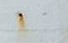Corrosion: (16, 13, 25, 32)
